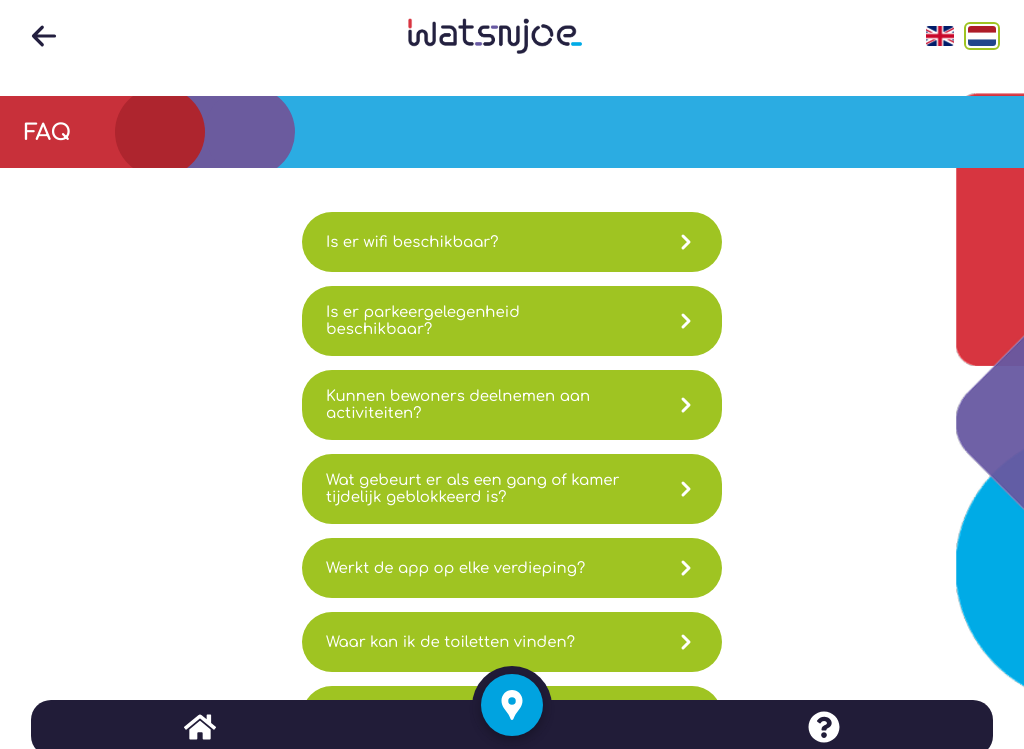
Test: FAQ Page › Language toggle › switches questions to English
This screenshot has width=1024, height=749.
Click the button named "Switch to English".
click(940, 36)  # box [922,22,958,50]
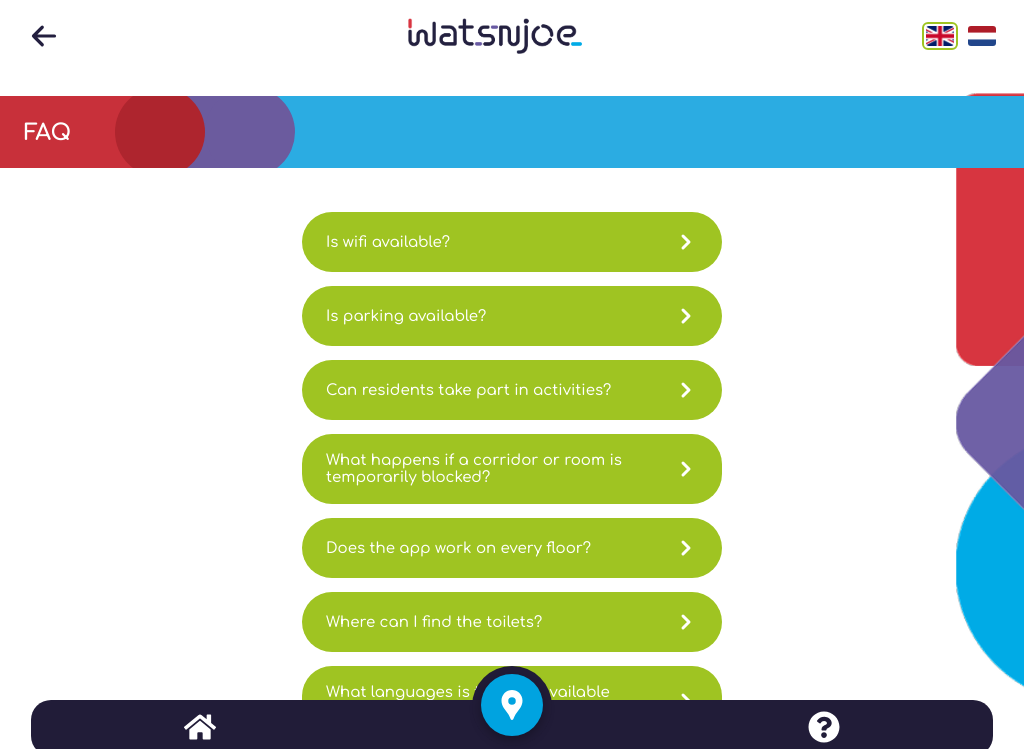
Expected: the button "Is wifi available?" is shown, [302,212,722,272]
Expected: the button "Is parking available?" is shown, [302,286,722,346]
Expected: the button "Can residents take part in activities?" is shown, [302,360,722,420]
